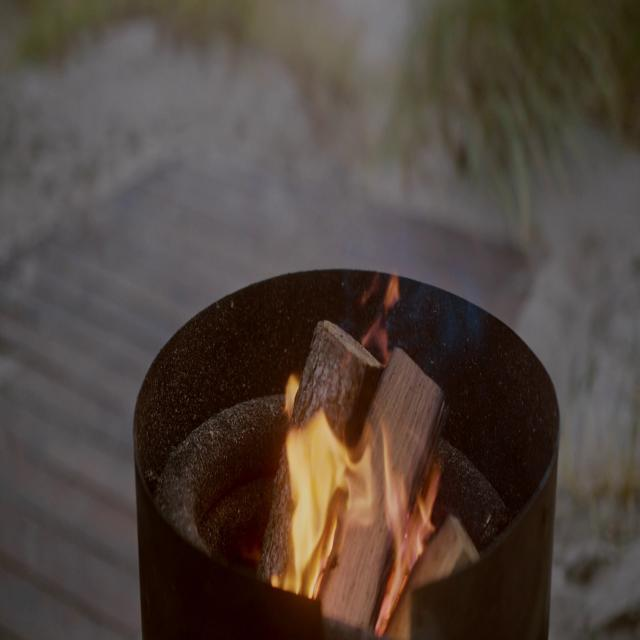Fire: (272, 368, 446, 614)
